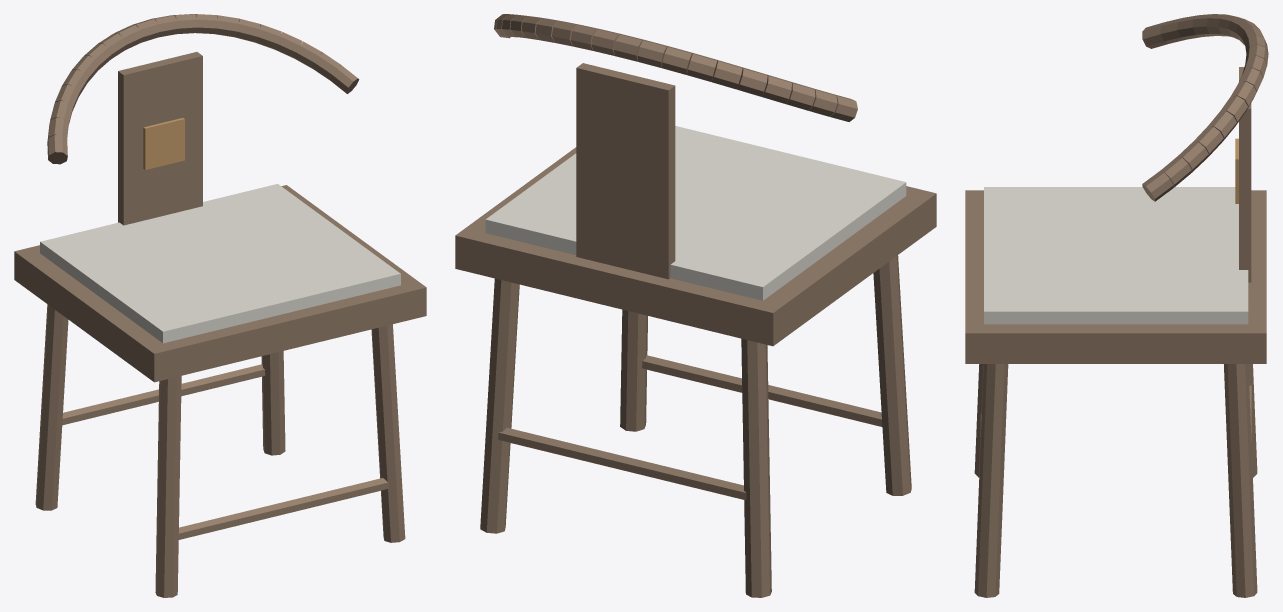
File: prop_horseshoe_armchair_v2.glb
3 renders of one model, left to right at view 1: azimuth 30°, elevation 25°; view 2: azimuth 150°, elevation 25°; view 3: azimuth 270°, elevation 25°, orthographic. The views are drawn at different scales.
Visible parts, largest first — view 1: prop_horseshoe_armchair_v2/chair_cushion_00001, prop_horseshoe_armchair_v2/chair_seat_00000, prop_horseshoe_armchair_v2/chair_back_splat_00028, prop_horseshoe_armchair_v2/tapered_chair_leg_00002, prop_horseshoe_armchair_v2/tapered_chair_leg_00004, prop_horseshoe_armchair_v2/tapered_chair_leg_00003, prop_horseshoe_armchair_v2/chair_stretcher_front_00006, prop_horseshoe_armchair_v2/chair_stretcher_back_00007, prop_horseshoe_armchair_v2/tapered_chair_leg_00005, prop_horseshoe_armchair_v2/chair_splat_medallion_00029, prop_horseshoe_armchair_v2/horseshoe_crest_arm_00027; view 2: prop_horseshoe_armchair_v2/chair_cushion_00001, prop_horseshoe_armchair_v2/chair_seat_00000, prop_horseshoe_armchair_v2/chair_back_splat_00028, prop_horseshoe_armchair_v2/tapered_chair_leg_00003, prop_horseshoe_armchair_v2/tapered_chair_leg_00005, prop_horseshoe_armchair_v2/tapered_chair_leg_00002, prop_horseshoe_armchair_v2/chair_stretcher_back_00007, prop_horseshoe_armchair_v2/chair_stretcher_front_00006, prop_horseshoe_armchair_v2/tapered_chair_leg_00004, prop_horseshoe_armchair_v2/horseshoe_crest_arm_00022, prop_horseshoe_armchair_v2/horseshoe_crest_arm_00023, prop_horseshoe_armchair_v2/horseshoe_crest_arm_00020 (+1 smaller); view 3: prop_horseshoe_armchair_v2/chair_cushion_00001, prop_horseshoe_armchair_v2/chair_seat_00000, prop_horseshoe_armchair_v2/tapered_chair_leg_00004, prop_horseshoe_armchair_v2/tapered_chair_leg_00005, prop_horseshoe_armchair_v2/chair_back_splat_00028, prop_horseshoe_armchair_v2/horseshoe_crest_arm_00008, prop_horseshoe_armchair_v2/tapered_chair_leg_00002, prop_horseshoe_armchair_v2/tapered_chair_leg_00003, prop_horseshoe_armchair_v2/horseshoe_crest_arm_00009, prop_horseshoe_armchair_v2/horseshoe_crest_arm_00010, prop_horseshoe_armchair_v2/horseshoe_crest_arm_00011, prop_horseshoe_armchair_v2/horseshoe_crest_arm_00012 (+3 smaller).
Boxes of the visible parts, x1,y1,x2,y2 form: prop_horseshoe_armchair_v2/chair_cushion_00001: [40, 184, 400, 343]; prop_horseshoe_armchair_v2/chair_seat_00000: [14, 185, 426, 382]; prop_horseshoe_armchair_v2/chair_back_splat_00028: [118, 52, 202, 225]; prop_horseshoe_armchair_v2/tapered_chair_leg_00002: [155, 376, 181, 597]; prop_horseshoe_armchair_v2/tapered_chair_leg_00004: [371, 324, 405, 542]; prop_horseshoe_armchair_v2/tapered_chair_leg_00003: [35, 304, 68, 510]; prop_horseshoe_armchair_v2/chair_stretcher_front_00006: [178, 478, 388, 539]; prop_horseshoe_armchair_v2/chair_stretcher_back_00007: [62, 364, 265, 425]; prop_horseshoe_armchair_v2/tapered_chair_leg_00005: [261, 351, 285, 455]; prop_horseshoe_armchair_v2/chair_splat_medallion_00029: [143, 118, 184, 169]; prop_horseshoe_armchair_v2/horseshoe_crest_arm_00027: [47, 135, 67, 164]; prop_horseshoe_armchair_v2/chair_cushion_00001: [485, 126, 906, 300]; prop_horseshoe_armchair_v2/chair_seat_00000: [455, 147, 936, 346]; prop_horseshoe_armchair_v2/chair_back_splat_00028: [576, 63, 675, 279]; prop_horseshoe_armchair_v2/tapered_chair_leg_00003: [741, 338, 771, 597]; prop_horseshoe_armchair_v2/tapered_chair_leg_00005: [480, 278, 519, 533]; prop_horseshoe_armchair_v2/tapered_chair_leg_00002: [873, 255, 911, 495]; prop_horseshoe_armchair_v2/chair_stretcher_back_00007: [498, 427, 746, 499]; prop_horseshoe_armchair_v2/chair_stretcher_front_00006: [642, 355, 882, 426]; prop_horseshoe_armchair_v2/tapered_chair_leg_00004: [620, 309, 647, 431]; prop_horseshoe_armchair_v2/horseshoe_crest_arm_00022: [711, 60, 742, 89]; prop_horseshoe_armchair_v2/horseshoe_crest_arm_00023: [736, 67, 767, 96]; prop_horseshoe_armchair_v2/horseshoe_crest_arm_00020: [662, 46, 692, 74]; prop_horseshoe_armchair_v2/chair_cushion_00001: [984, 187, 1248, 324]; prop_horseshoe_armchair_v2/chair_seat_00000: [965, 190, 1266, 363]; prop_horseshoe_armchair_v2/tapered_chair_leg_00004: [974, 364, 1008, 597]; prop_horseshoe_armchair_v2/tapered_chair_leg_00005: [1224, 364, 1257, 597]; prop_horseshoe_armchair_v2/chair_back_splat_00028: [1239, 67, 1251, 282]; prop_horseshoe_armchair_v2/horseshoe_crest_arm_00008: [1142, 170, 1173, 201]; prop_horseshoe_armchair_v2/tapered_chair_leg_00002: [974, 364, 983, 477]; prop_horseshoe_armchair_v2/tapered_chair_leg_00003: [1248, 364, 1257, 477]; prop_horseshoe_armchair_v2/horseshoe_crest_arm_00009: [1161, 156, 1191, 187]; prop_horseshoe_armchair_v2/horseshoe_crest_arm_00010: [1178, 141, 1208, 172]; prop_horseshoe_armchair_v2/horseshoe_crest_arm_00011: [1194, 126, 1223, 156]; prop_horseshoe_armchair_v2/horseshoe_crest_arm_00012: [1208, 111, 1236, 141].
Bounding box in the file's own units: 0.6265 × 0.8791 × 0.493.
